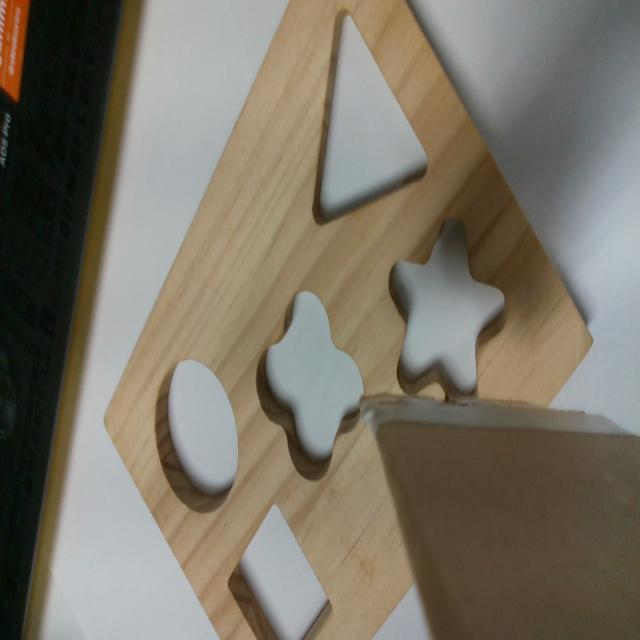circle: (156, 358, 237, 519)
flower: (256, 289, 366, 483)
square: (227, 501, 335, 639)
star: (389, 220, 508, 402)
triangle: (308, 13, 428, 230)
